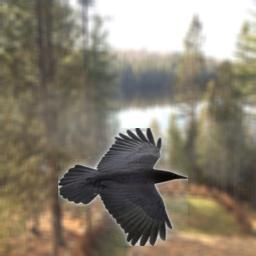Crow: (58, 128, 188, 246)
